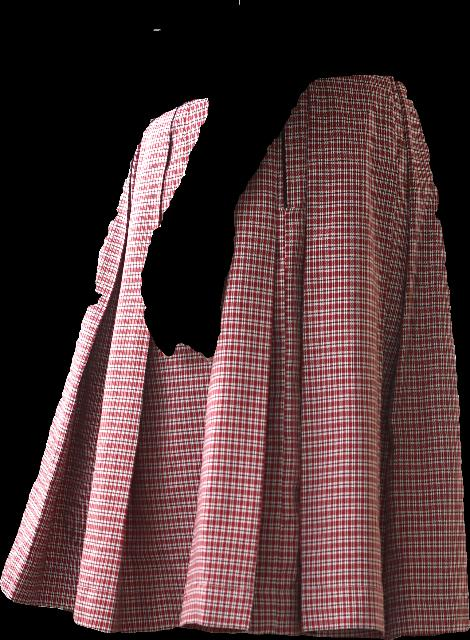skirt: (0, 75, 469, 639)
